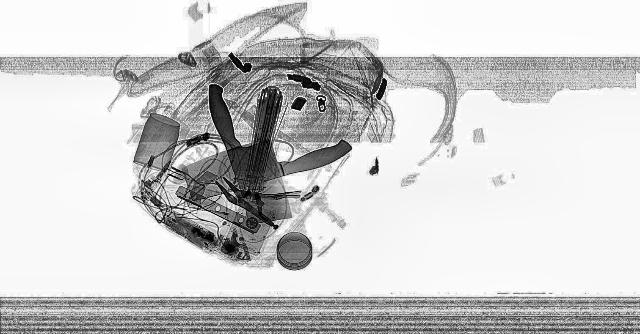Knife: (155, 124, 363, 202), (204, 82, 290, 224)
